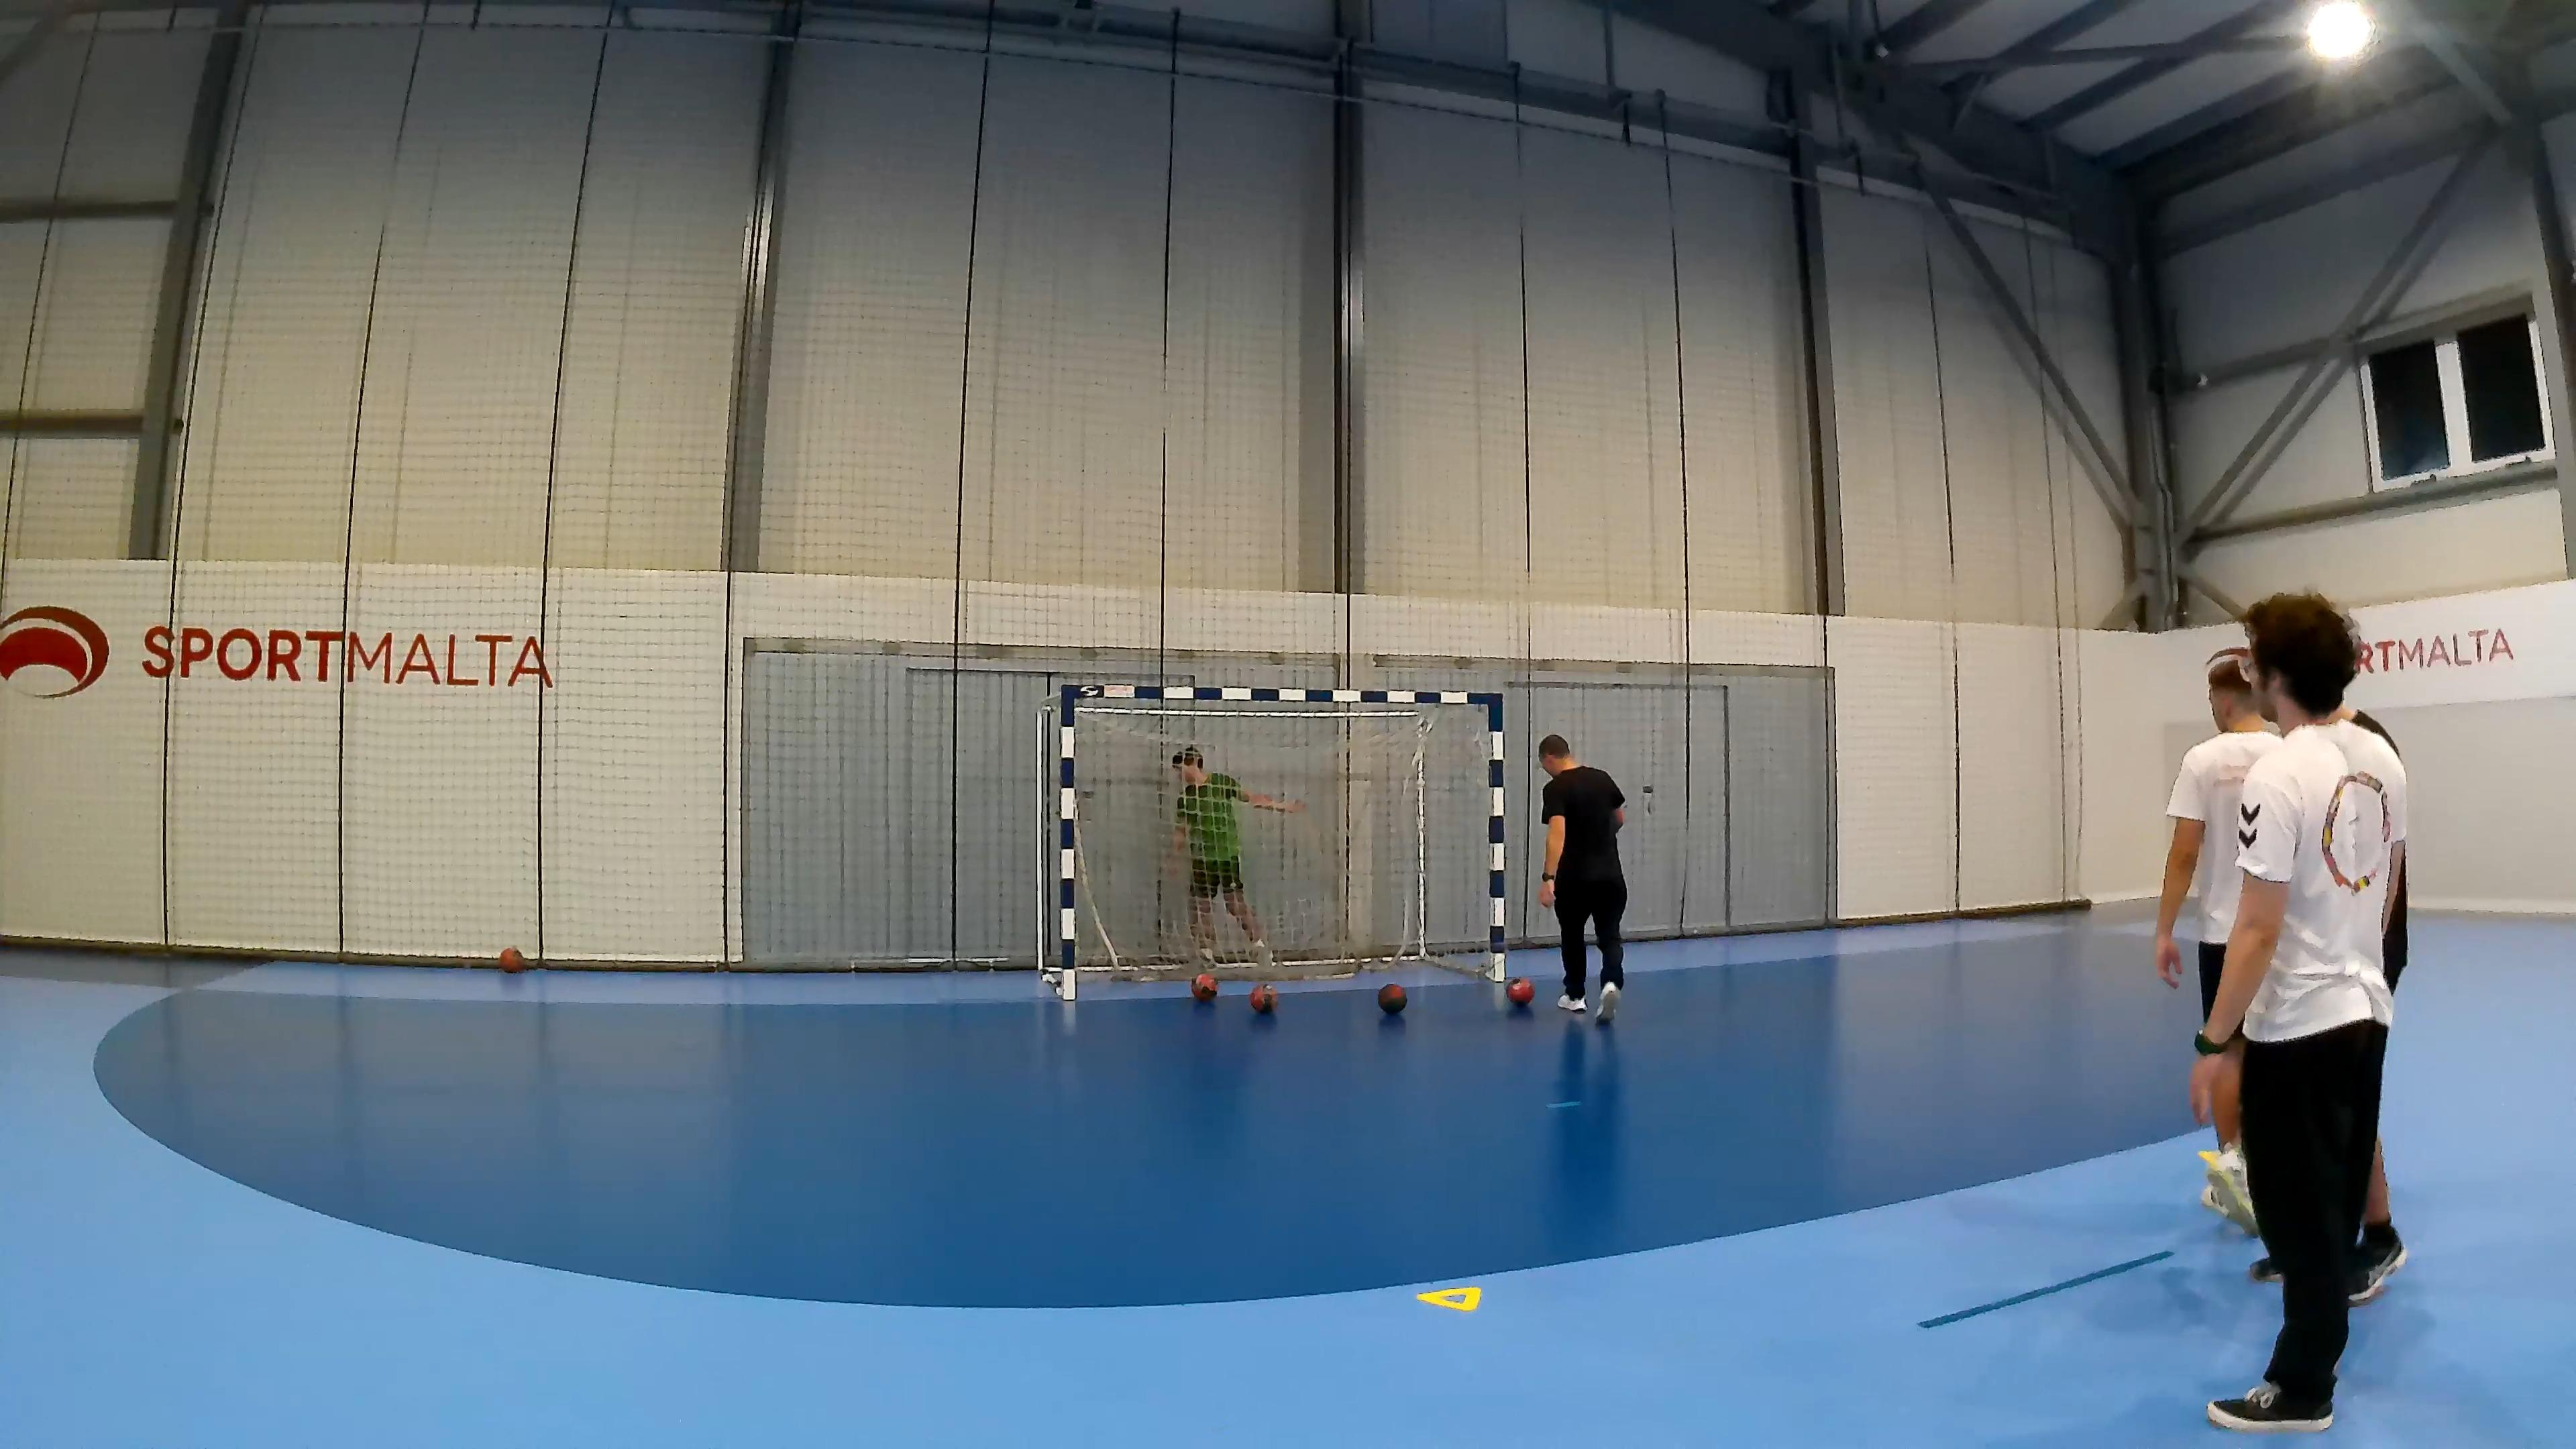handball: (1376, 982, 1407, 1014), (1249, 982, 1276, 1012), (1506, 977, 1534, 1003), (1191, 971, 1215, 1001)
